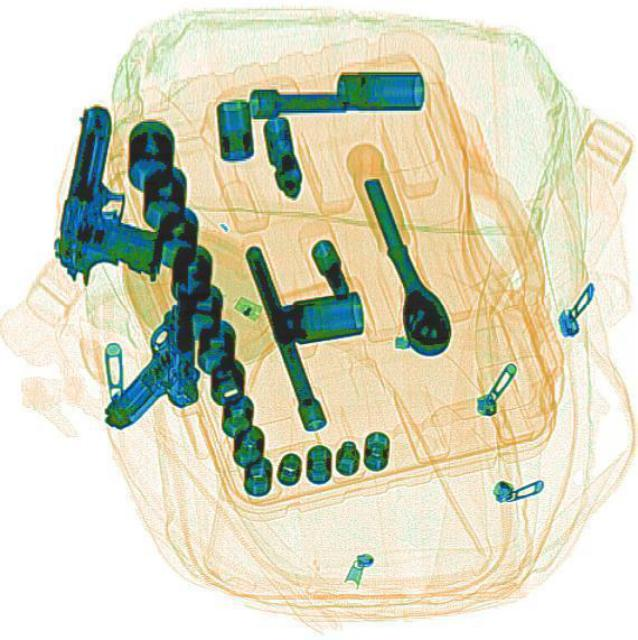Gun: (46, 100, 179, 294), (99, 258, 198, 427)
